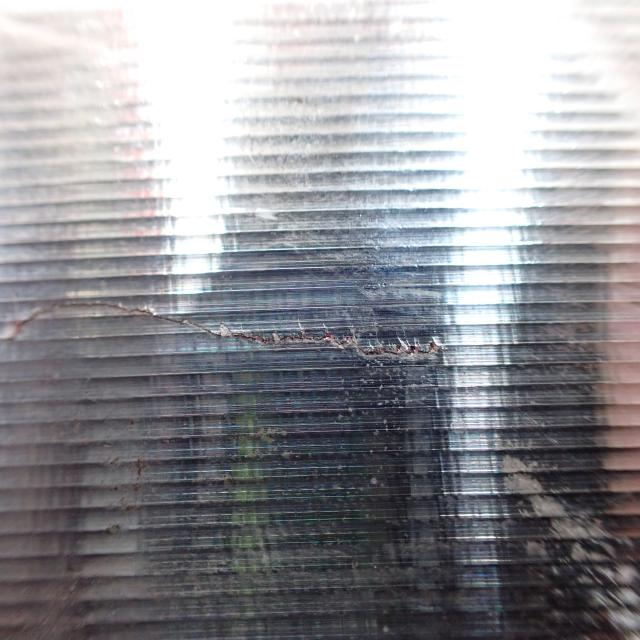Contact_Fatigue_Cracks: (1, 297, 463, 358)
